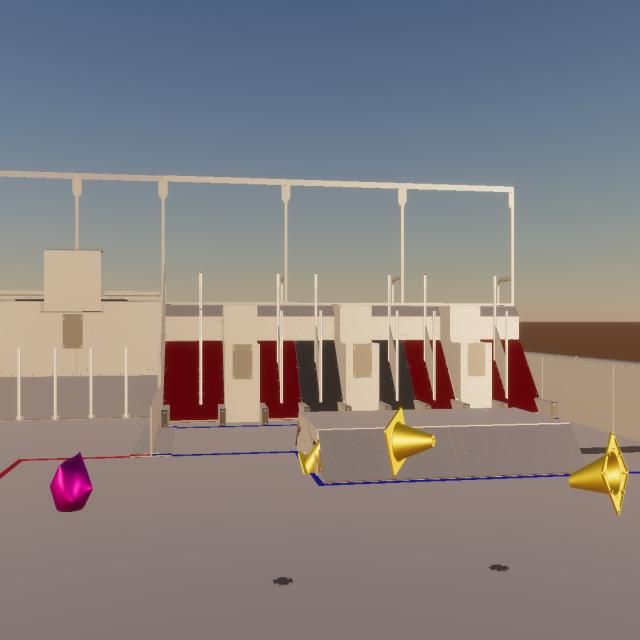frc_cone: (568, 431, 628, 515), (384, 407, 436, 477), (298, 427, 331, 474)
frc_cube: (50, 452, 93, 512)
